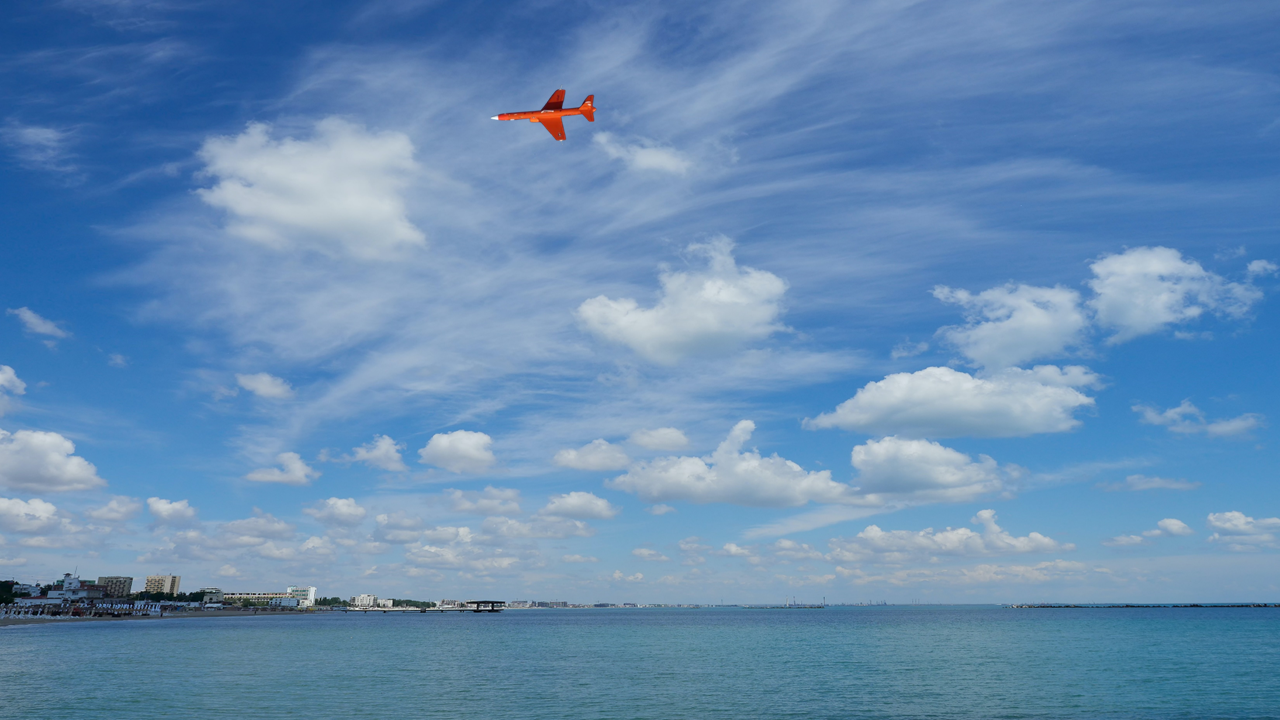military drone: (490, 88, 596, 141)
